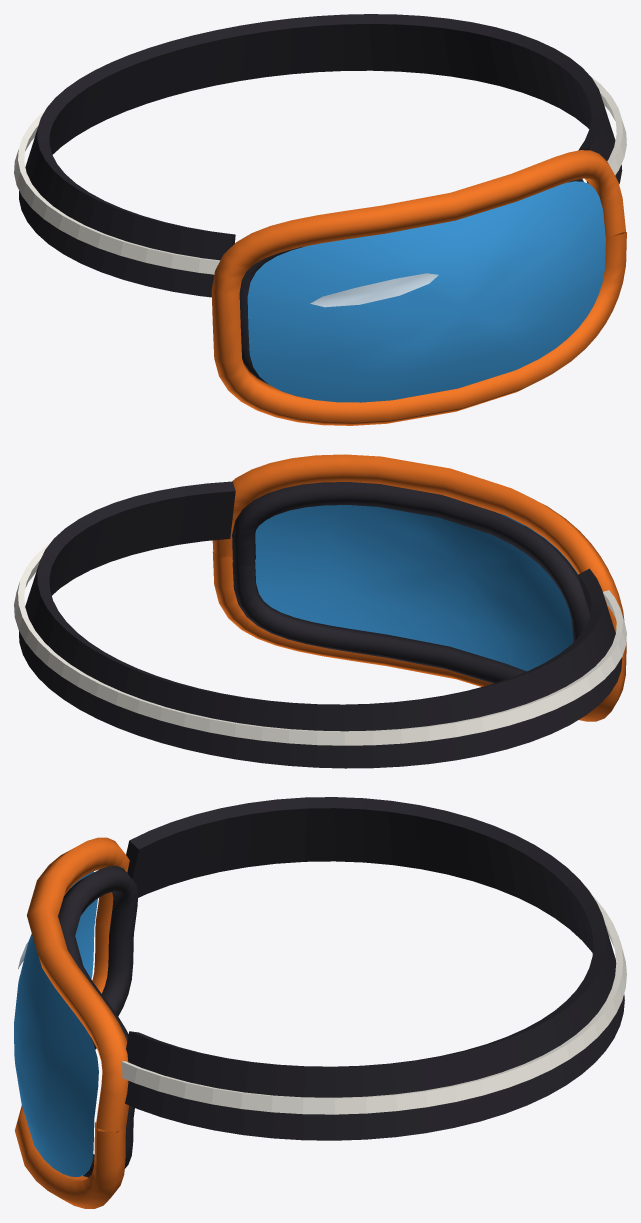
The model's file is acc_goggles.glb.
The picture shows the model from 3 angles, top to bottom: view 1: azimuth 30°, elevation 25°; view 2: azimuth 150°, elevation 25°; view 3: azimuth 270°, elevation 25°; orthographic projection. The views are drawn at different scales.
Parts seen in each view (by area): view 1: AccGoggles; view 2: AccGoggles; view 3: AccGoggles.
Part boxes in pixels (x1,y1,x2,y2): AccGoggles: (14, 14, 626, 425); AccGoggles: (14, 454, 626, 768); AccGoggles: (14, 797, 626, 1208).
Bounding box in the file's own units: 0.568 × 0.2131 × 0.5031.
